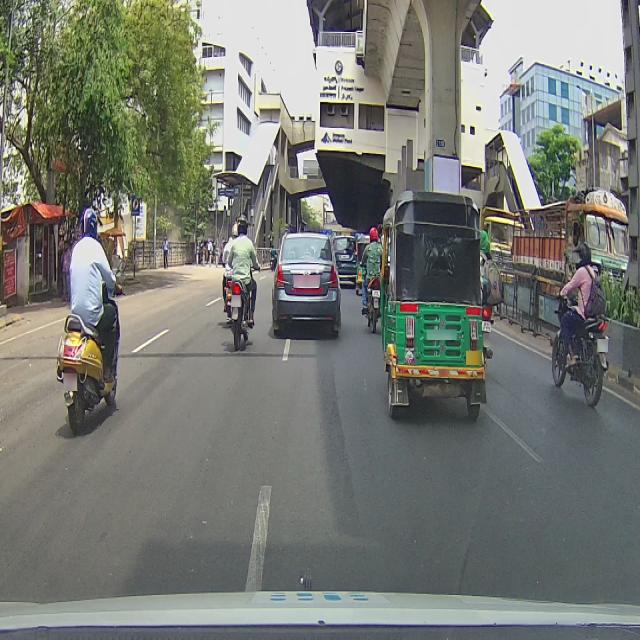auto ahead at: (381, 198, 492, 420)
car ahead at: (264, 226, 345, 338)
motorcycle ahead at: (53, 309, 129, 447), (550, 296, 614, 410), (227, 275, 260, 352)
